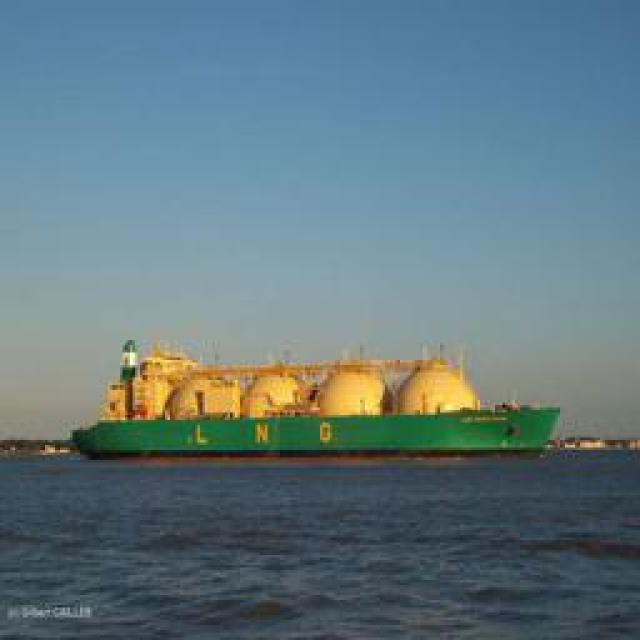Ship: (76, 344, 556, 464)
